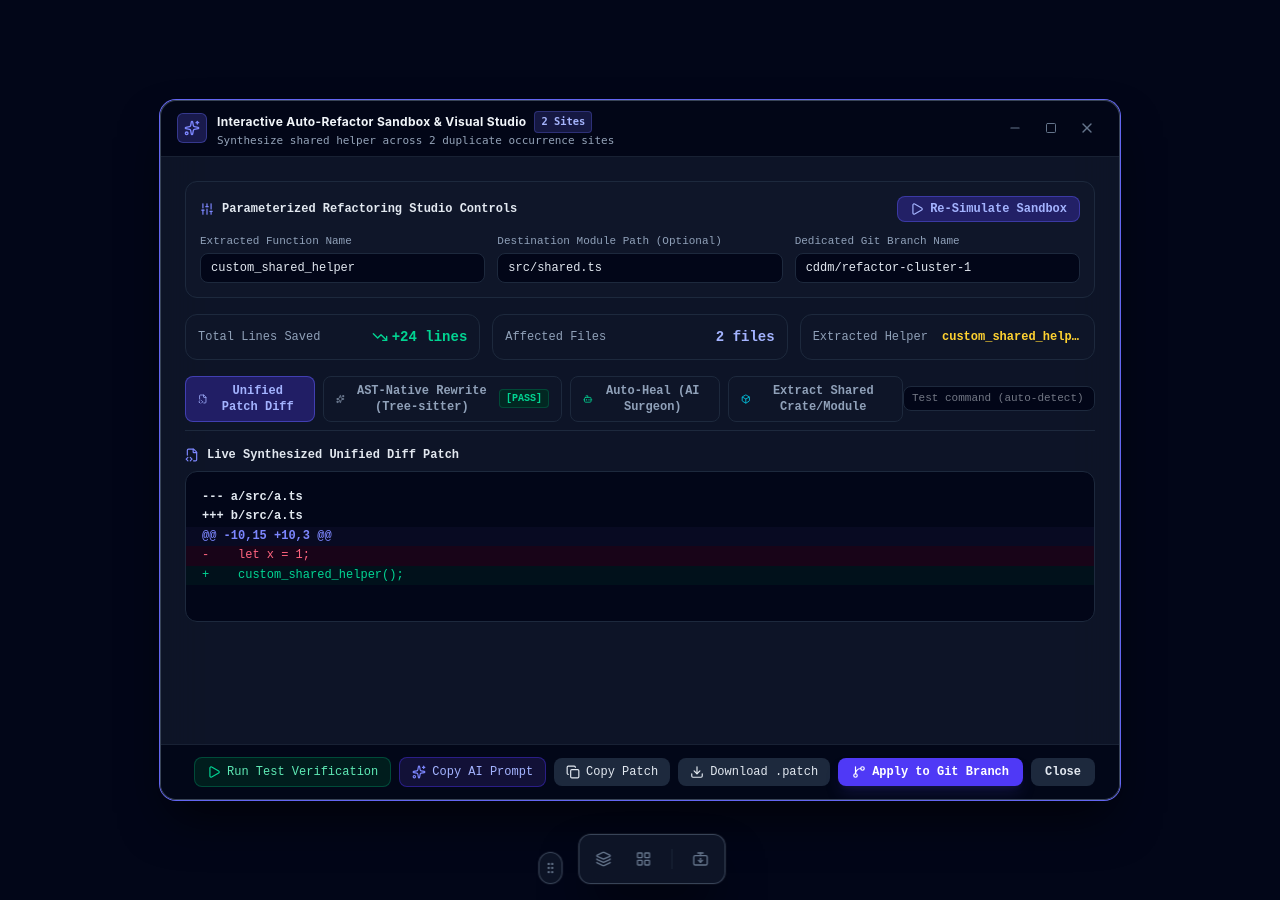
Test case: RefactorSandboxModal Component › should switch to AST-Native Rewrite tab and render AST synthesis results
The image size is (1280, 900).
Click the button "AST-Native Rewrite (Tree-sitter) [PASS]": (442,398) [323, 375, 562, 421]
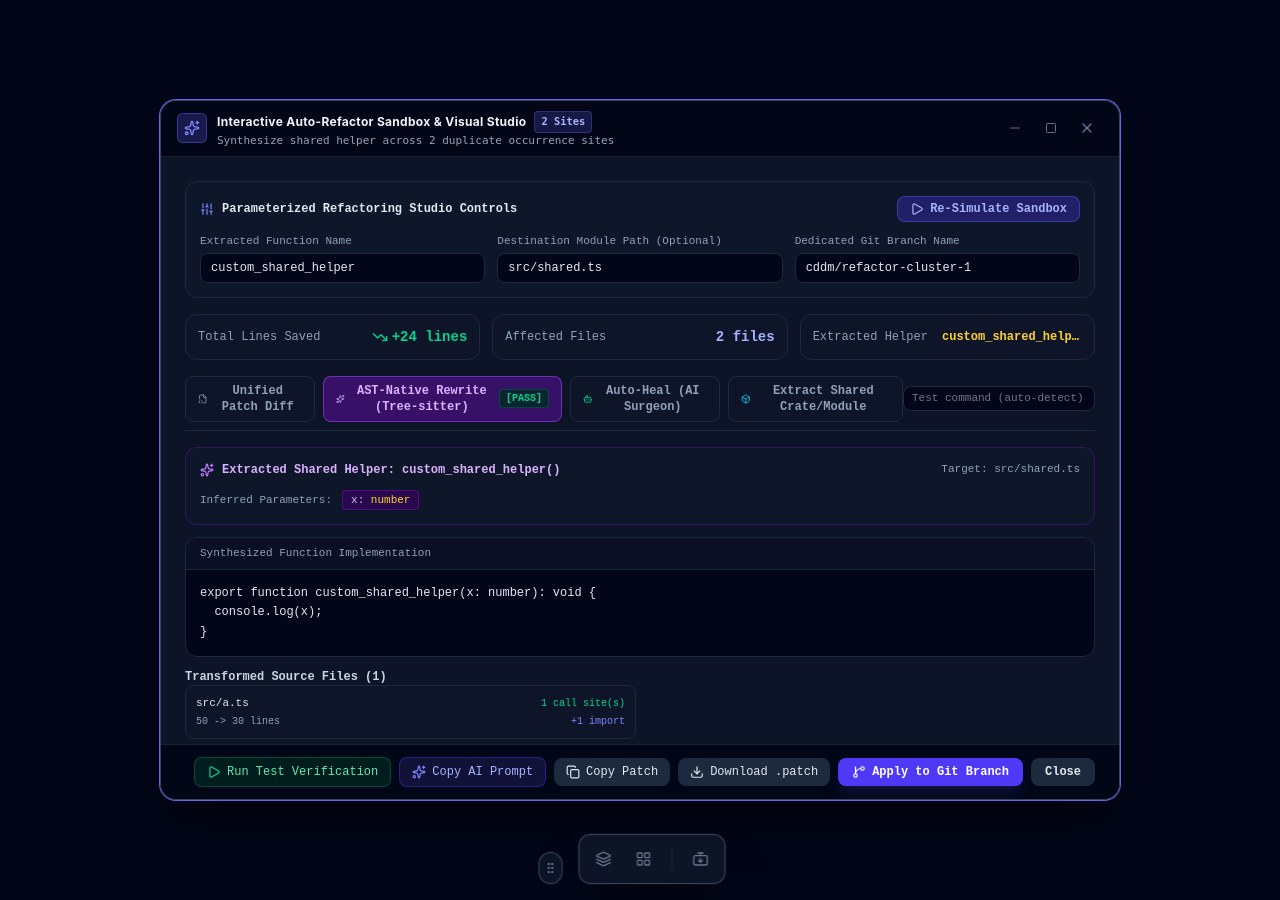
Result: the text "Synthesized Function Implementation" is shown at [186, 538, 1094, 570]
Result: the text "Transformed Source Files (1)" is shown at [185, 670, 387, 684]
Result: the text "x:" is shown at [342, 489, 419, 510]
